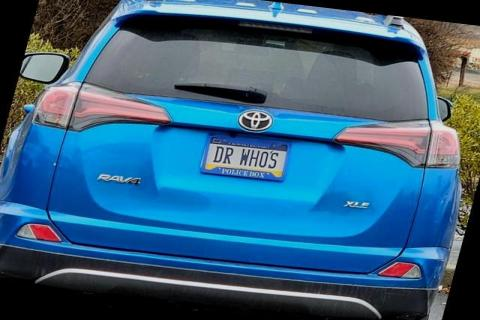LicensePlate: (196, 130, 292, 182)
